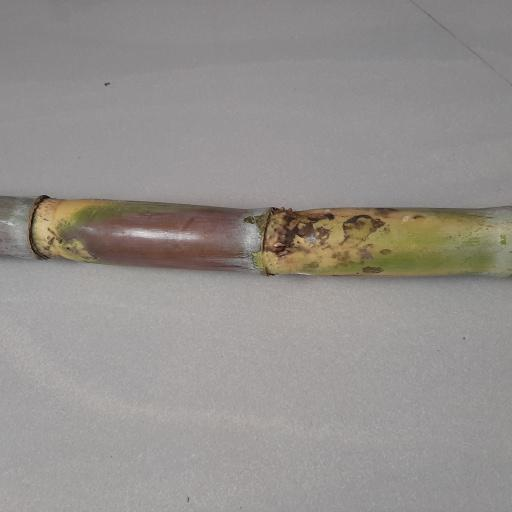Damage_Bud: (259, 242, 287, 253)
